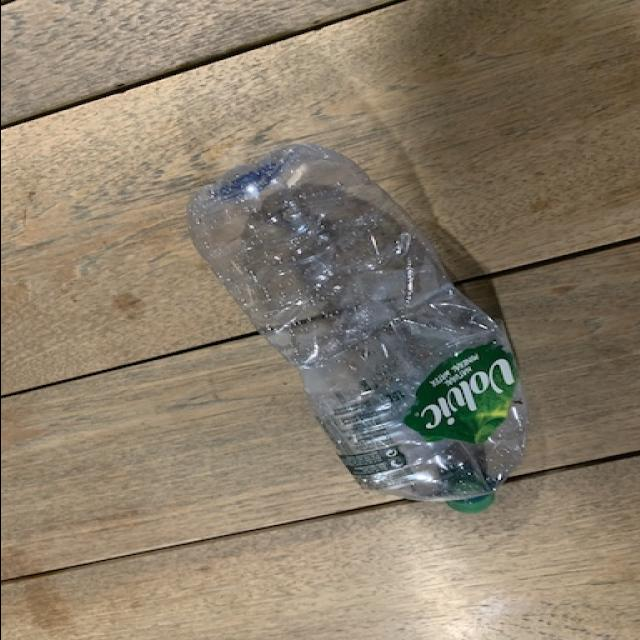litter: (178, 136, 524, 516)
